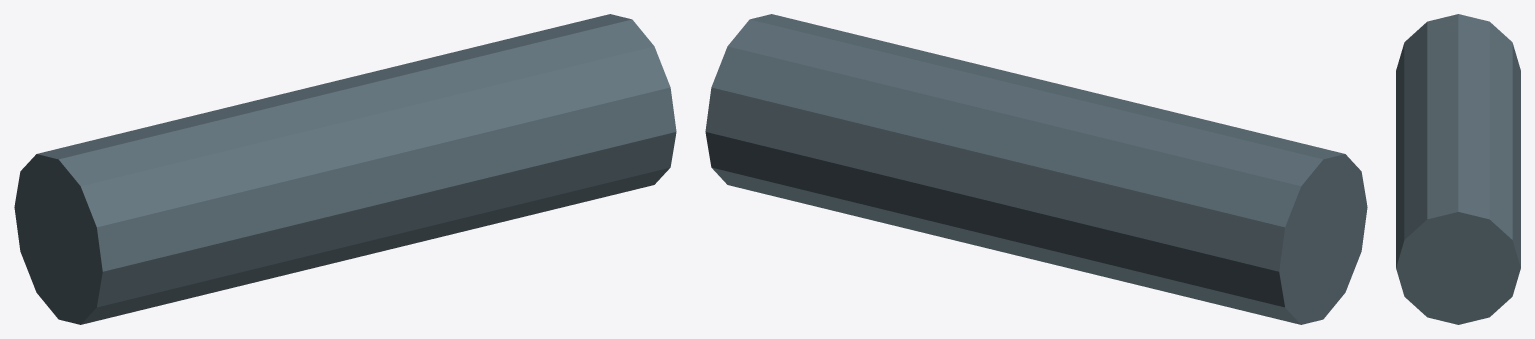
Rendered from SM_Factory_Large_pipe_3m.glb.
3 views of the same model, side by side, from view 1: azimuth 30°, elevation 25°; view 2: azimuth 150°, elevation 25°; view 3: azimuth 270°, elevation 25° (orthographic). The views are drawn at different scales.
Visible parts, largest first — view 1: SM_Factory_Large_pipe_3m; view 2: SM_Factory_Large_pipe_3m; view 3: SM_Factory_Large_pipe_3m.
Boxes of the visible parts, left/top/right/bottom form: SM_Factory_Large_pipe_3m: left=14, top=14, right=676, bottom=324; SM_Factory_Large_pipe_3m: left=705, top=14, right=1367, bottom=324; SM_Factory_Large_pipe_3m: left=1396, top=14, right=1520, bottom=324.
Bounding box in the file's own units: 3 × 0.8 × 0.8.
Materials: 1 (1 with a texture image).
